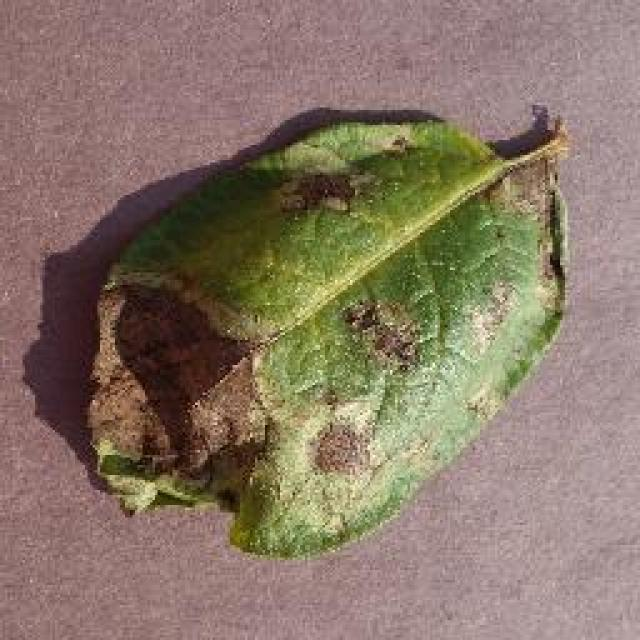Late_blight: (38, 99, 572, 569)
